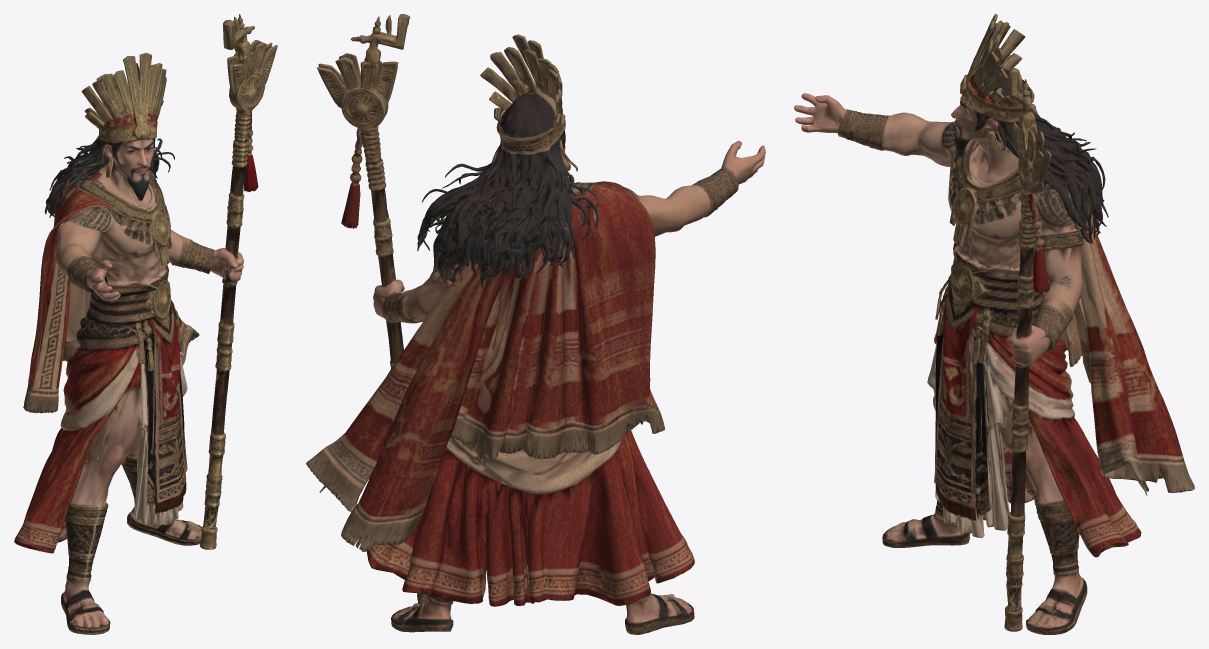
File: Meshy_AI_Sun_Emperor_texture_remesh_tri.obj
3 renders of one model, left to right at view 1: azimuth 30°, elevation 25°; view 2: azimuth 150°, elevation 25°; view 3: azimuth 270°, elevation 25°, orthographic. The views are drawn at different scales.
Parts seen in each view (by area): view 1: Meshy_AI_Sun_Emperor_texture_remesh_tri; view 2: Meshy_AI_Sun_Emperor_texture_remesh_tri; view 3: Meshy_AI_Sun_Emperor_texture_remesh_tri.
Part boxes in pixels (left/top/right/bottom): Meshy_AI_Sun_Emperor_texture_remesh_tri: left=14, top=14, right=277, bottom=634; Meshy_AI_Sun_Emperor_texture_remesh_tri: left=306, top=14, right=765, bottom=634; Meshy_AI_Sun_Emperor_texture_remesh_tri: left=794, top=14, right=1194, bottom=634.
Size of the model in its own units: 1.12 by 1.9 by 1.2.
Materials: 1 (1 with a texture image).
